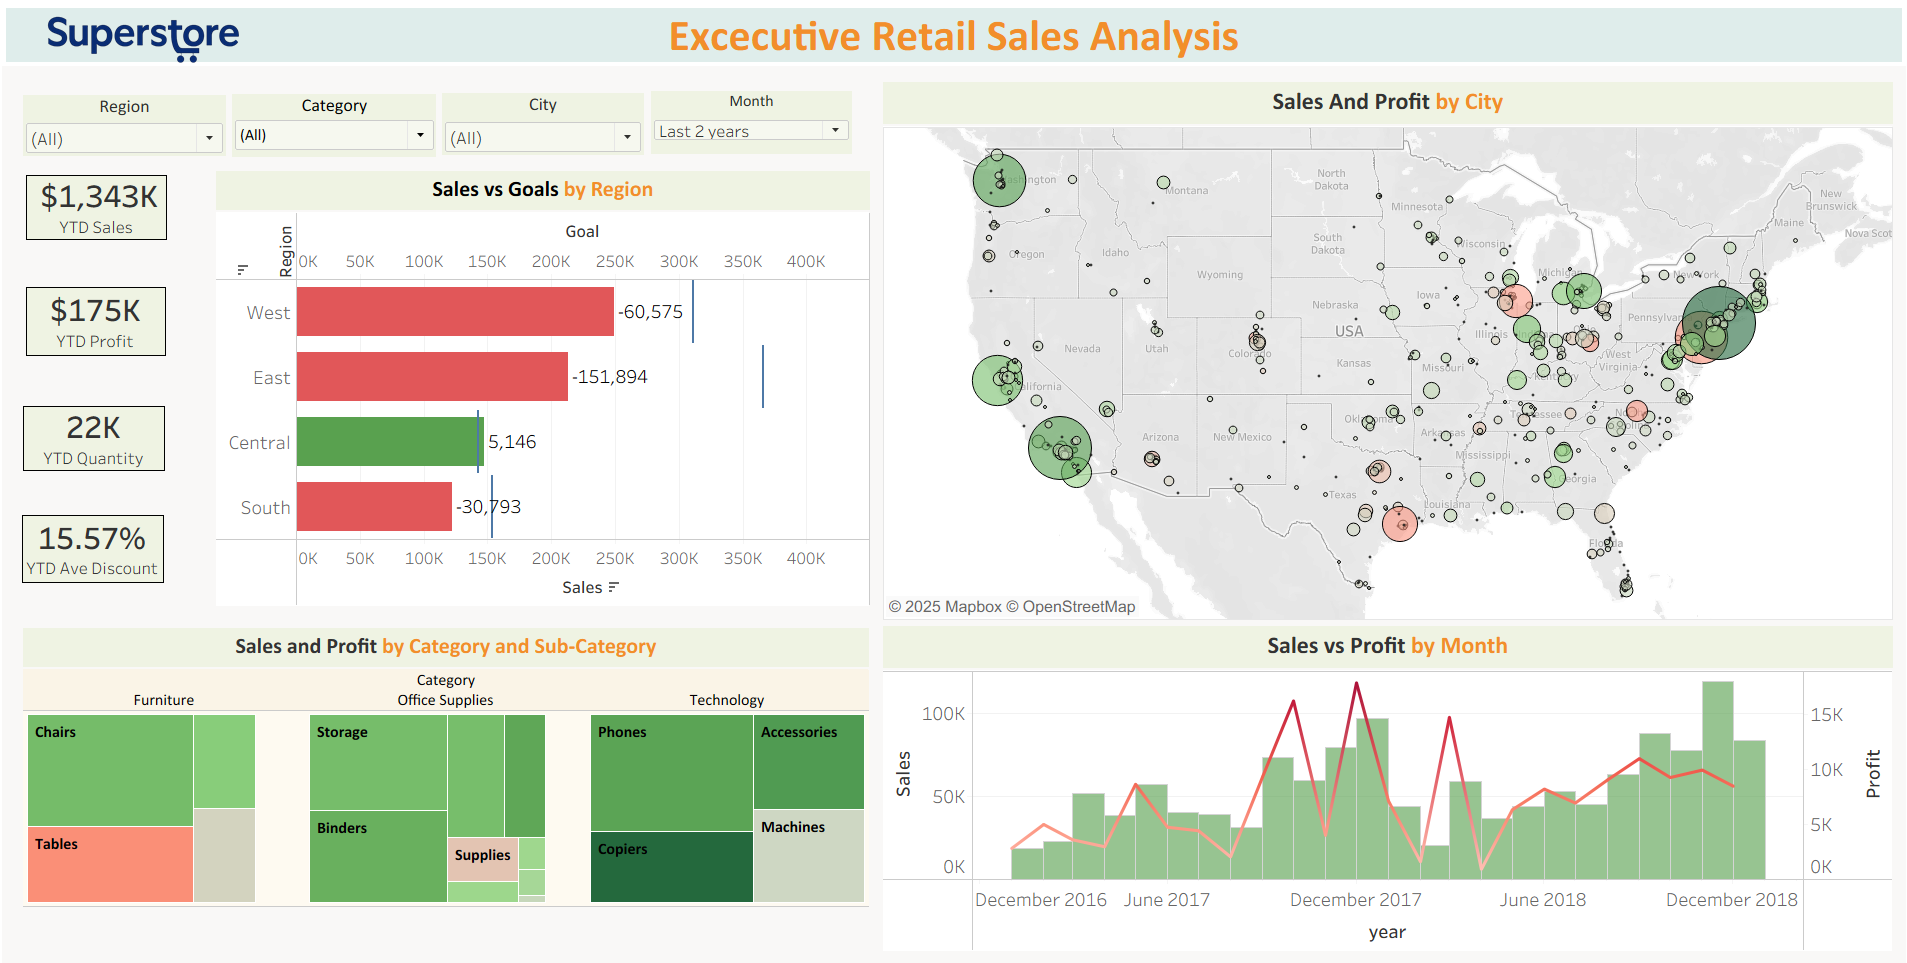

What the dashboard file says about the page in this screenshot:
{"tool":"tableau","page":{"name":"Dashboard 1","canvas":[1000,1000],"units":"permille","ordinal":0},"visuals":[{"type":"title","box":[4.2,8.2,991.7,63.6]},{"type":"image","param":"Image/Logo.png","box":[21.1,14.8,157,60.3]},{"type":"worksheet","title":"Sheet 3","mark":"Automatic","box":[462.9,88.3,526.2,551.7]},{"type":"filter","title":"Sheet 5","param":"[federated.0fsgl0g1t9uvza11zn0zj0y9v6vl].[tmn:Order Date (MDY):qk]","box":[342.1,97.9,104.7,64.3]},{"type":"filter","title":"Sheet 3","param":"[federated.0fsgl0g1t9uvza11zn0zj0y9v6vl].[none:City:nk]","box":[233.6,99.2,105.3,64.3]},{"type":"filter","title":"Sheet 4","param":"[federated.0fsgl0g1t9uvza11zn0zj0y9v6vl].[none:Category:nk]","box":[123.8,100.5,106.6,64.3]},{"type":"filter","title":"Sales vs Goals by Region","param":"[federated.0fsgl0g1t9uvza11zn0zj0y9v6vl].[none:Region:nk]","box":[15.3,101.9,105.9,63]},{"type":"worksheet","title":"Sales vs Goals by Region","mark":"Automatic","rows":["Region"],"cols":["Sales","Goal"],"box":[115.5,179.6,340.8,446.4]},{"type":"worksheet","title":"Sheet 6","mark":"Automatic","box":[16.6,183.7,90,88.5]},{"type":"worksheet","title":"Sheet 6 (2)","mark":"Automatic","box":[16.6,298.9,90,93.8]},{"type":"worksheet","title":"Sheet 6 (3)","mark":"Automatic","box":[15.3,420.9,91.3,88.5]},{"type":"worksheet","title":"Sheet 6 (4)","mark":"Automatic","box":[14.7,532.2,90.6,91.2]},{"type":"worksheet","title":"Sheet 5","mark":"Automatic","rows":["Sales","Profit"],"cols":["Order Date (MDY)"],"box":[462.9,645.8,526.2,333.3]},{"type":"worksheet","title":"Sheet 4","mark":"Automatic","cols":["Category"],"box":[15.1,648.1,440.6,327.5]}]}

Visuals, with their boxes on the dashboard's canvas, which has no fixed pixel size, in thousandths of its width and height (x1, y1, x2, y2). These are canvas units, not pixel positions in the 1907x963 screenshot, which may show the page scaled, cropped or inside an application window:
title: box(4, 8, 996, 72)
image: box(21, 15, 178, 75)
"Sheet 3" worksheet: box(463, 88, 989, 640)
"Sheet 5" filter: box(342, 98, 447, 162)
"Sheet 3" filter: box(234, 99, 339, 164)
"Sheet 4" filter: box(124, 100, 230, 165)
"Sales vs Goals by Region" filter: box(15, 102, 121, 165)
"Sales vs Goals by Region" worksheet: box(116, 180, 456, 626)
"Sheet 6" worksheet: box(17, 184, 107, 272)
"Sheet 6 (2)" worksheet: box(17, 299, 107, 393)
"Sheet 6 (3)" worksheet: box(15, 421, 107, 509)
"Sheet 6 (4)" worksheet: box(15, 532, 105, 623)
"Sheet 5" worksheet: box(463, 646, 989, 979)
"Sheet 4" worksheet: box(15, 648, 456, 976)
